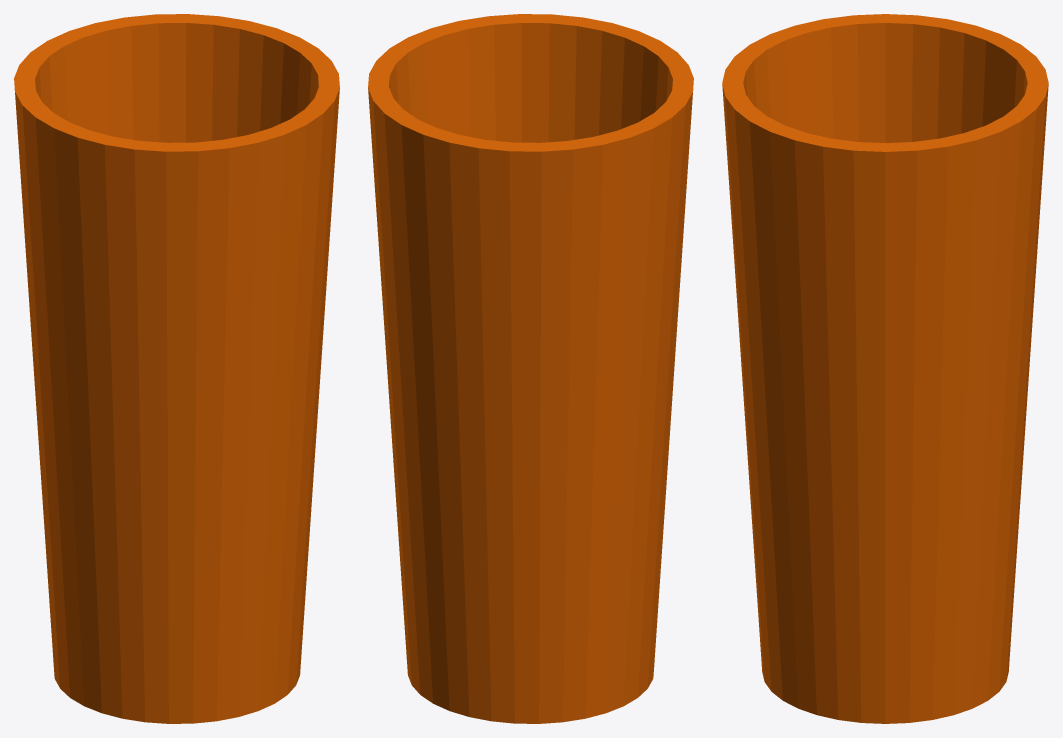
The model's file is Glass.gltf.
3 views of the same model, side by side, from view 1: azimuth 30°, elevation 25°; view 2: azimuth 150°, elevation 25°; view 3: azimuth 270°, elevation 25° (orthographic).
Visible parts, largest first — view 1: Glass; view 2: Glass; view 3: Glass.
Boxes of the visible parts, x1,y1,x2,y2 form: Glass: [14, 14, 339, 723]; Glass: [368, 14, 693, 723]; Glass: [722, 14, 1048, 723].
Bounding box in the file's own units: 0.1 × 0.199 × 0.1.
